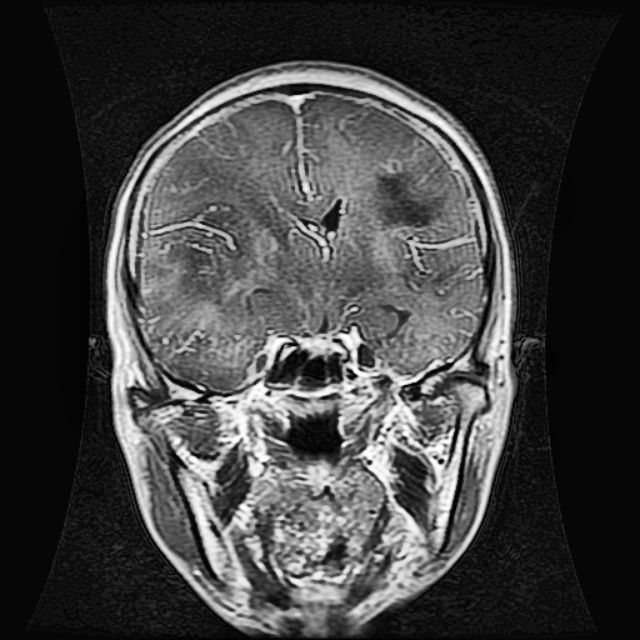Meningioma: (370, 170, 429, 228)
